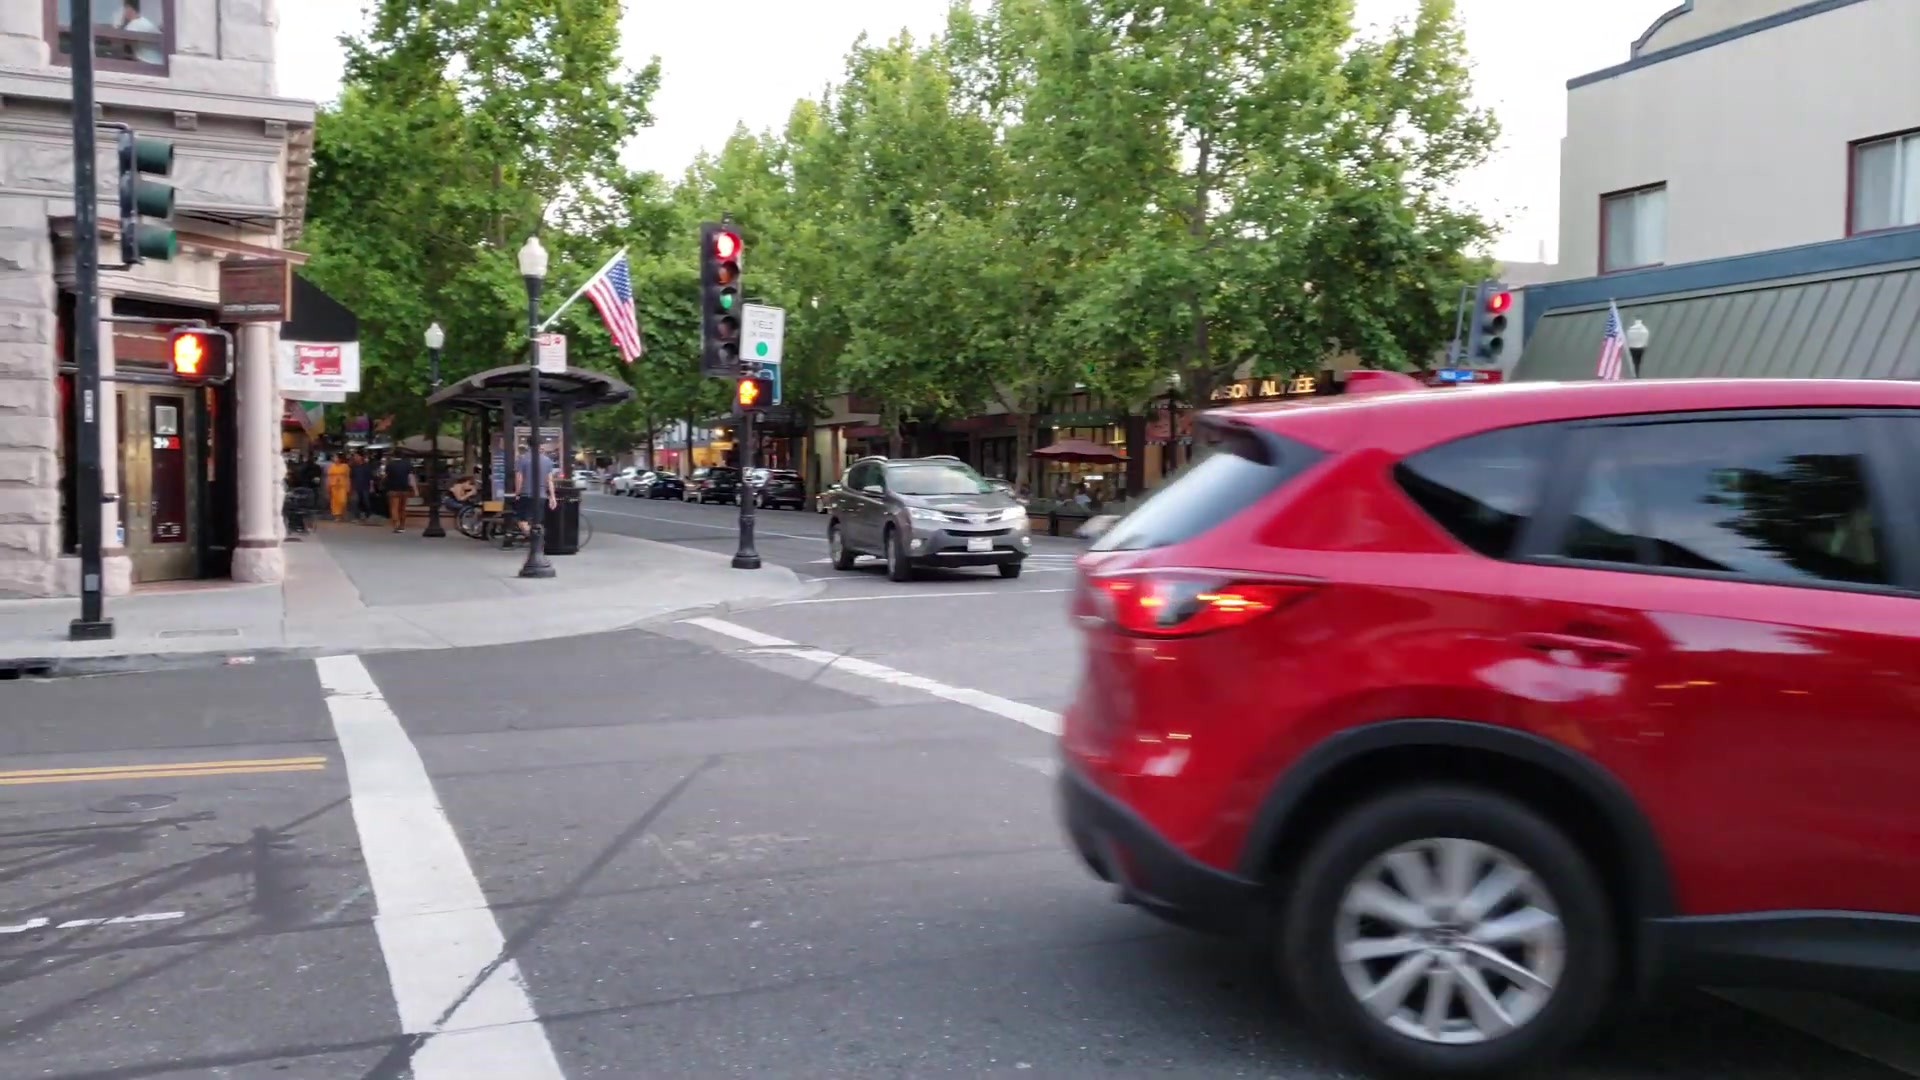vehicle: (1077, 389, 1920, 1080), (822, 448, 1033, 584)
